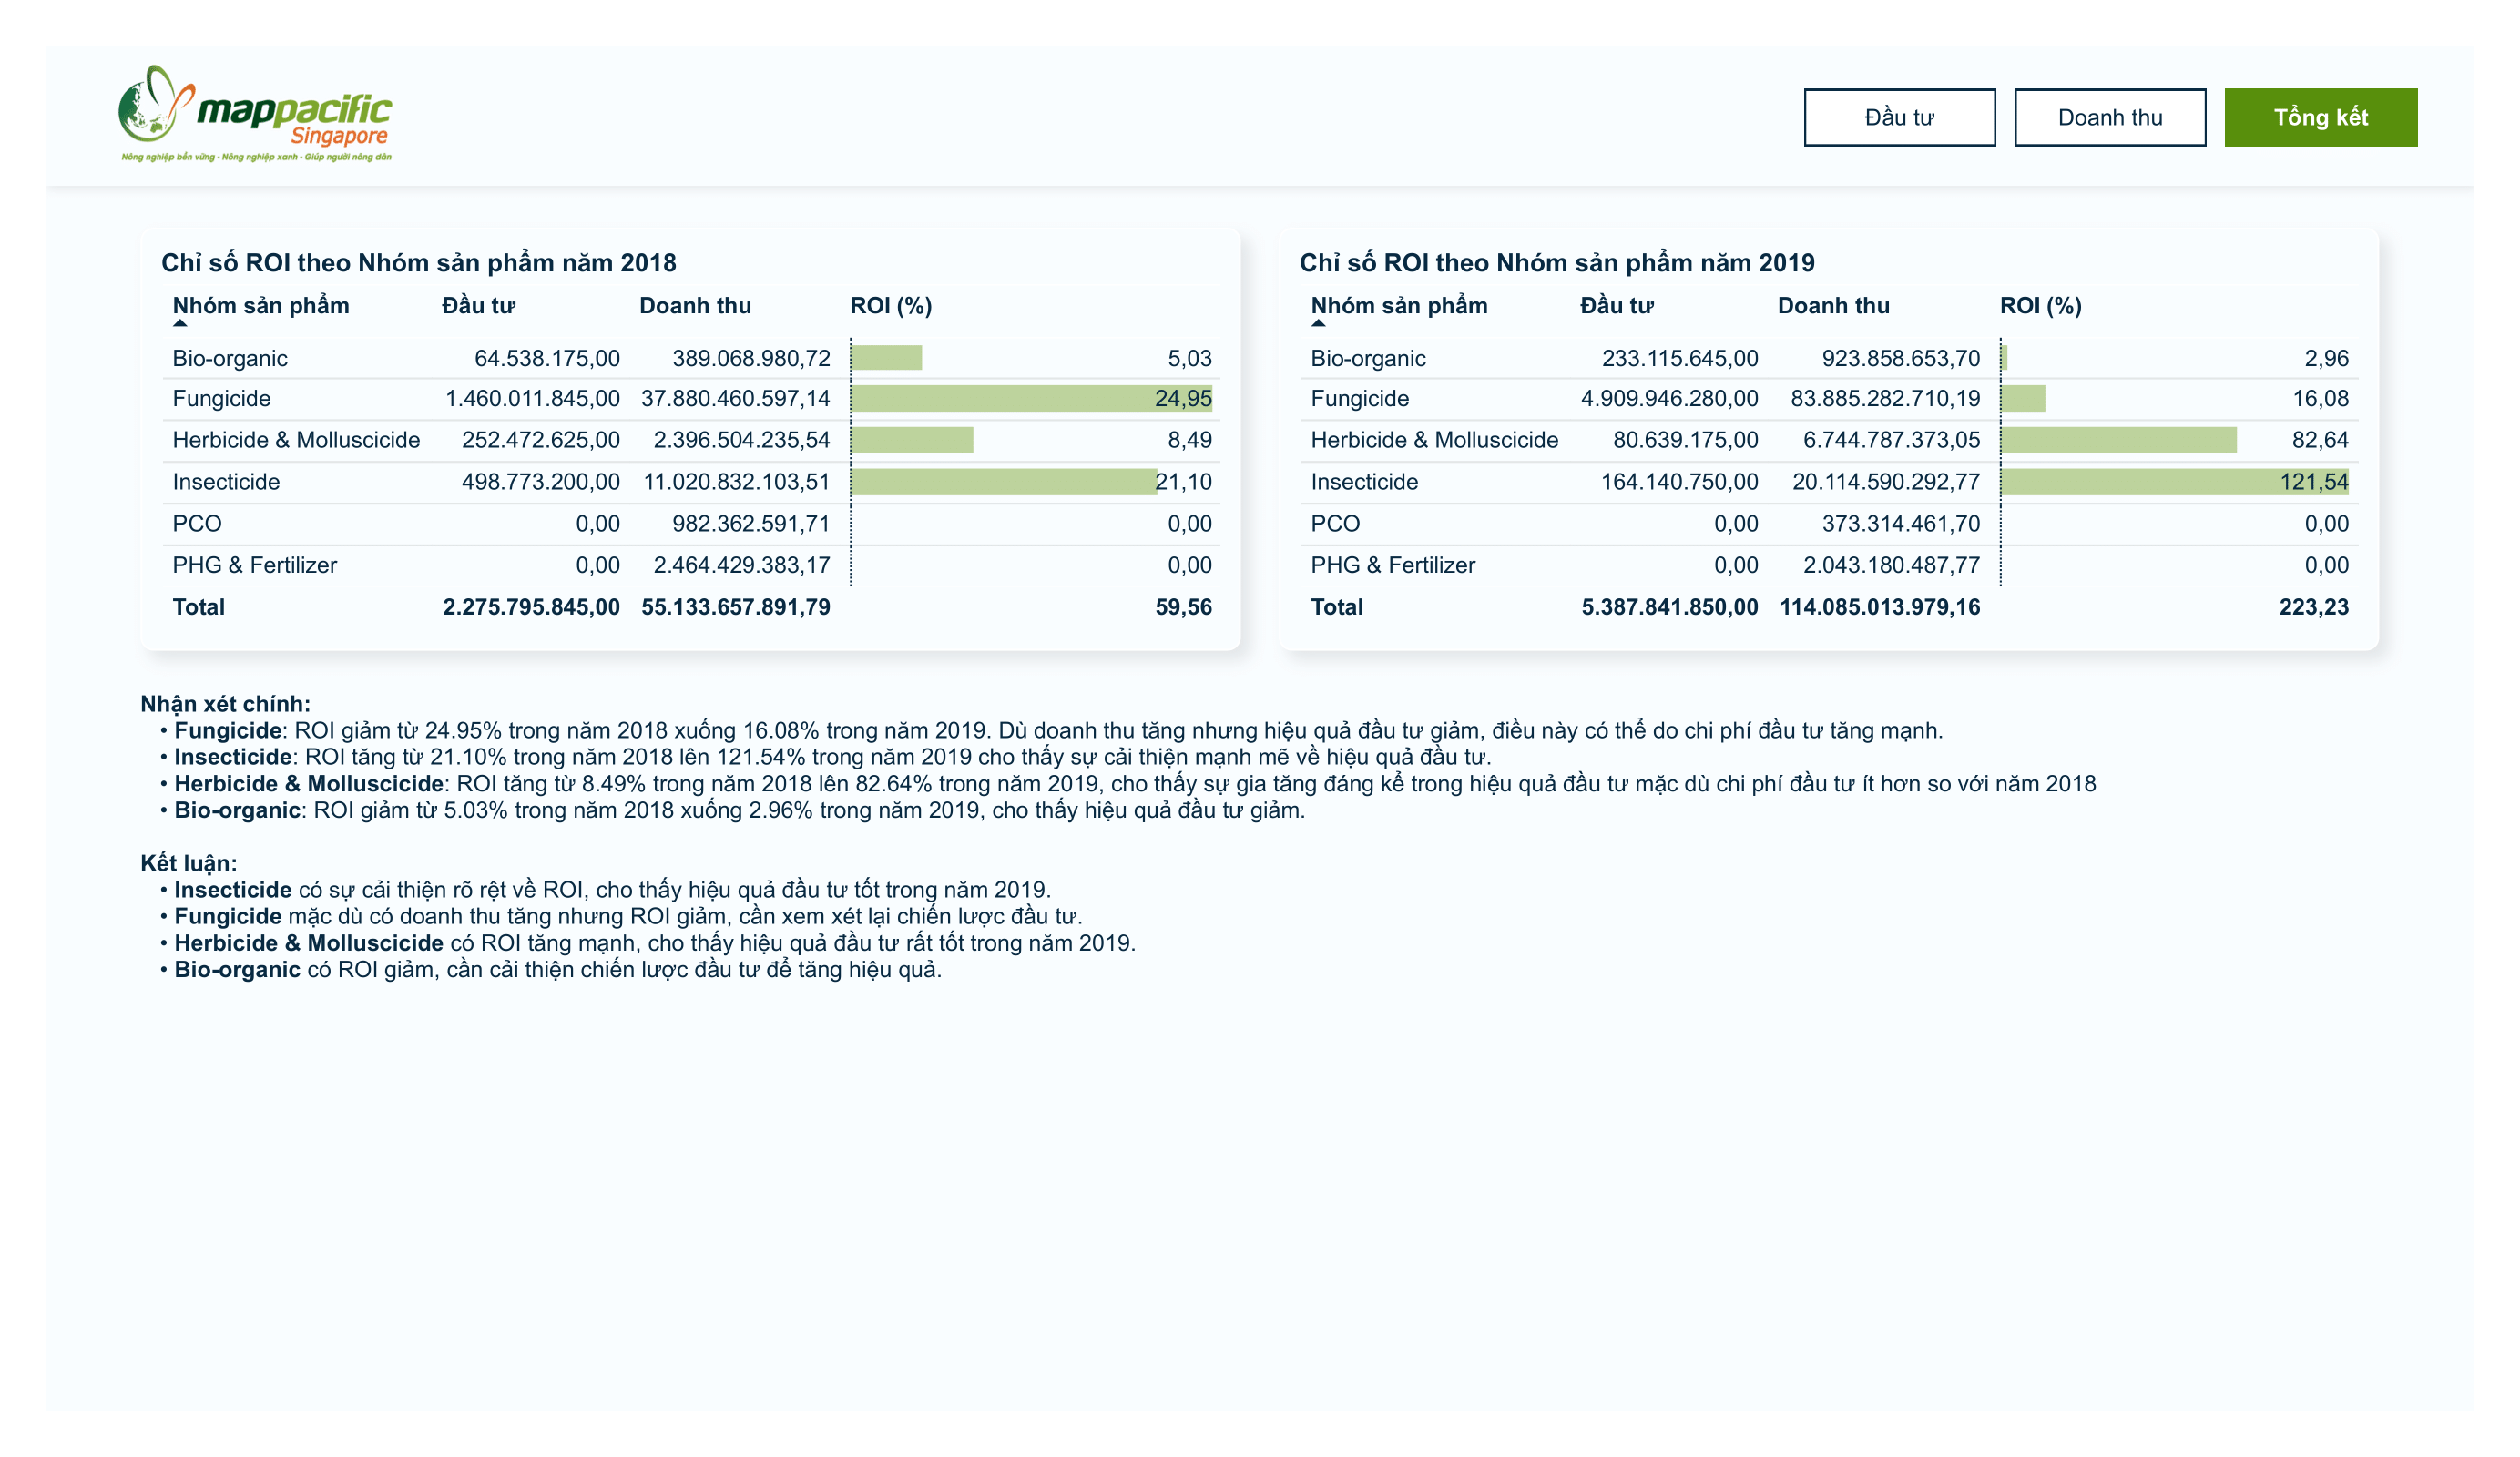

The page's visual inventory and layout, read from the dashboard file:
{"tool":"powerbi","page":{"name":"Tổng kết","canvas":[1280,720],"ordinal":2},"visuals":[{"type":"tableEx","title":"Chỉ số ROI theo Nhóm sản phẩm năm 2019","fields":{"Values":["2019_invest_revenue.Nhóm sản phẩm","Sum(2019_invest_revenue.Đầu tư 2019)","Sum(2019_invest_revenue.Doanh thu 2019)","Sum(2019_invest_revenue.ROI)"]},"box":[650,96.2,580,222.5],"z":0},{"type":"tableEx","title":"Chỉ số ROI theo Nhóm sản phẩm năm 2018","fields":{"Values":["2018_invest_revenue.Nhóm sản phẩm","Sum(2018_invest_revenue.Đầu tư 2018)","Sum(2018_invest_revenue.Doanh thu 2018)","Sum(2018_invest_revenue.ROI)"]},"box":[50,96.2,580,222.5],"z":1000},{"type":"shape","box":[0,0,1280,74.3],"z":2000},{"type":"image","box":[0,0,227.1,74.3],"z":3000},{"type":"textbox","box":[50,340,1180,162.9],"z":4000},{"type":"pageNavigator","box":[917.1,12.9,344.3,50],"z":5000}]}

Visuals, with their boxes on the page's 1280x720 design canvas (x1, y1, x2, y2). These are canvas units, not pixel positions in the 2520x1457 screenshot, which may show the page scaled, cropped or inside an application window:
"Chỉ số ROI theo Nhóm sản phẩm năm 2019" tableEx: 650/96/1230/319
"Chỉ số ROI theo Nhóm sản phẩm năm 2018" tableEx: 50/96/630/319
shape: 0/0/1280/74
image: 0/0/227/74
textbox: 50/340/1230/503
pageNavigator: 917/13/1261/63
